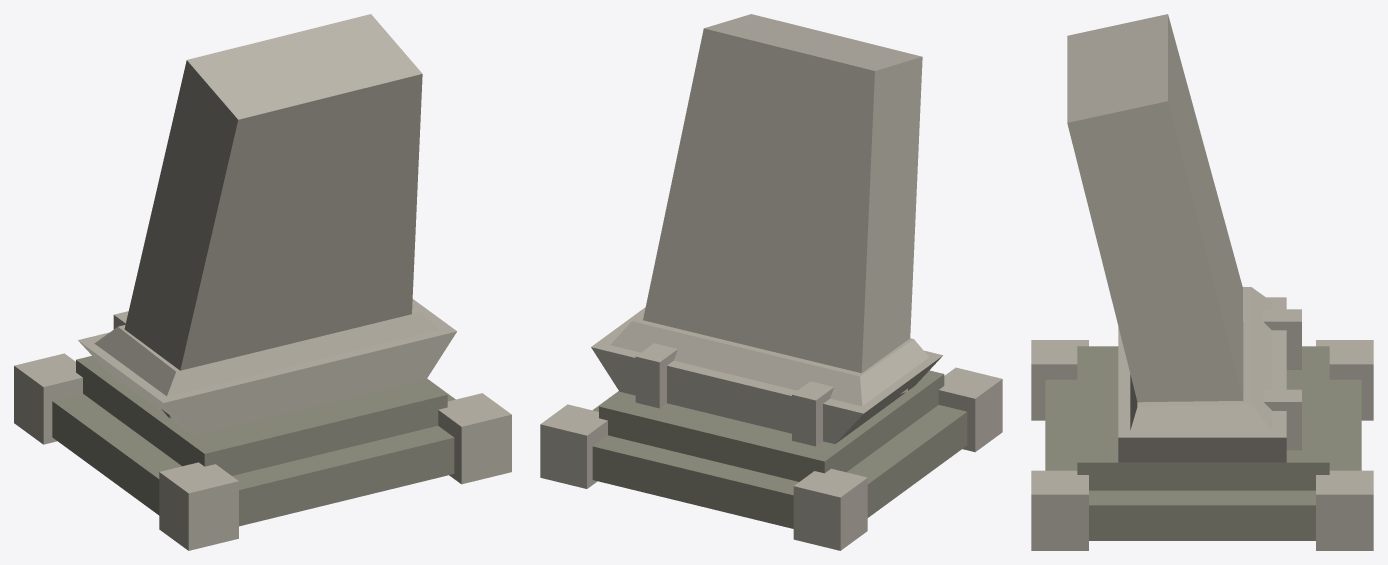
Rendered from statue_slab.fbx.
3 renders of one model, left to right at view 1: azimuth 30°, elevation 25°; view 2: azimuth 150°, elevation 25°; view 3: azimuth 270°, elevation 25°, orthographic. The views are drawn at different scales.
Visible parts, largest first — view 1: polySurface1437; view 2: polySurface1437; view 3: polySurface1437.
Part boxes in pixels (x1,y1,x2,y2): polySurface1437: (14,14,511,550); polySurface1437: (540,14,1002,550); polySurface1437: (1031,14,1373,550).
Bounding box in the file's own units: 81.31 × 102 × 76.06.
1 material, 1 textured.
